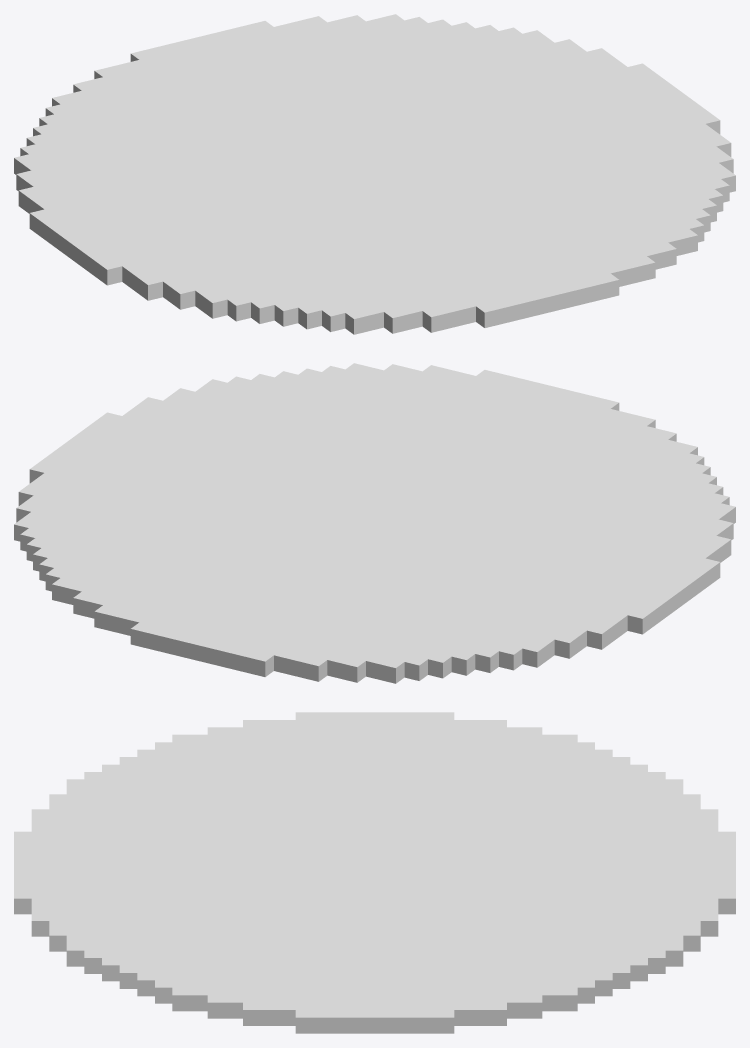
The model's file is BonusStage.obj.
The picture shows the model from 3 angles, top to bottom: view 1: azimuth 30°, elevation 25°; view 2: azimuth 150°, elevation 25°; view 3: azimuth 270°, elevation 25°; orthographic projection.
Parts seen in each view (by area): view 1: BonusStage; view 2: BonusStage; view 3: BonusStage.
Part boxes in pixels (<box>): BonusStage: <box>14,14,735,334</box>; BonusStage: <box>14,363,735,683</box>; BonusStage: <box>14,712,735,1033</box>.
Size of the model in its own units: 41 by 1 by 41.
1 material, 1 textured.
